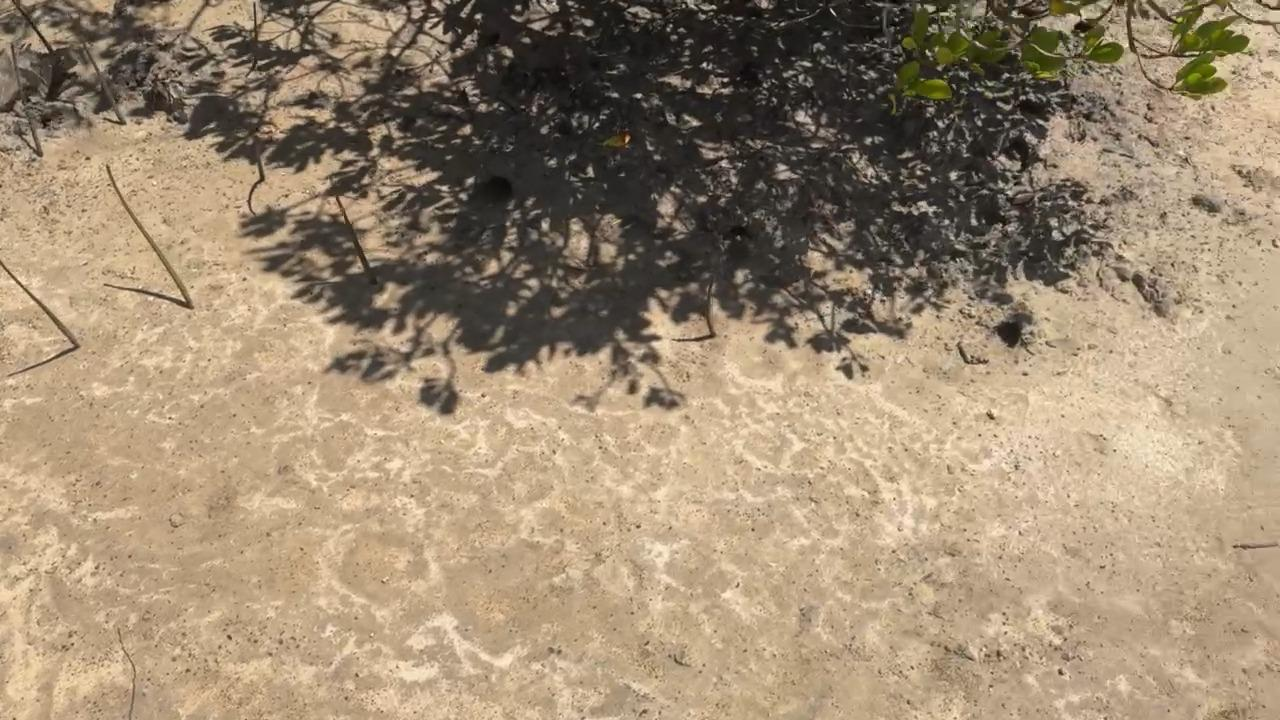Tree: (105, 161, 196, 310), (0, 259, 82, 349), (73, 22, 128, 125), (333, 191, 378, 286), (10, 42, 44, 158), (12, 0, 56, 59), (703, 273, 721, 338), (251, 130, 265, 183), (252, 0, 259, 64)
